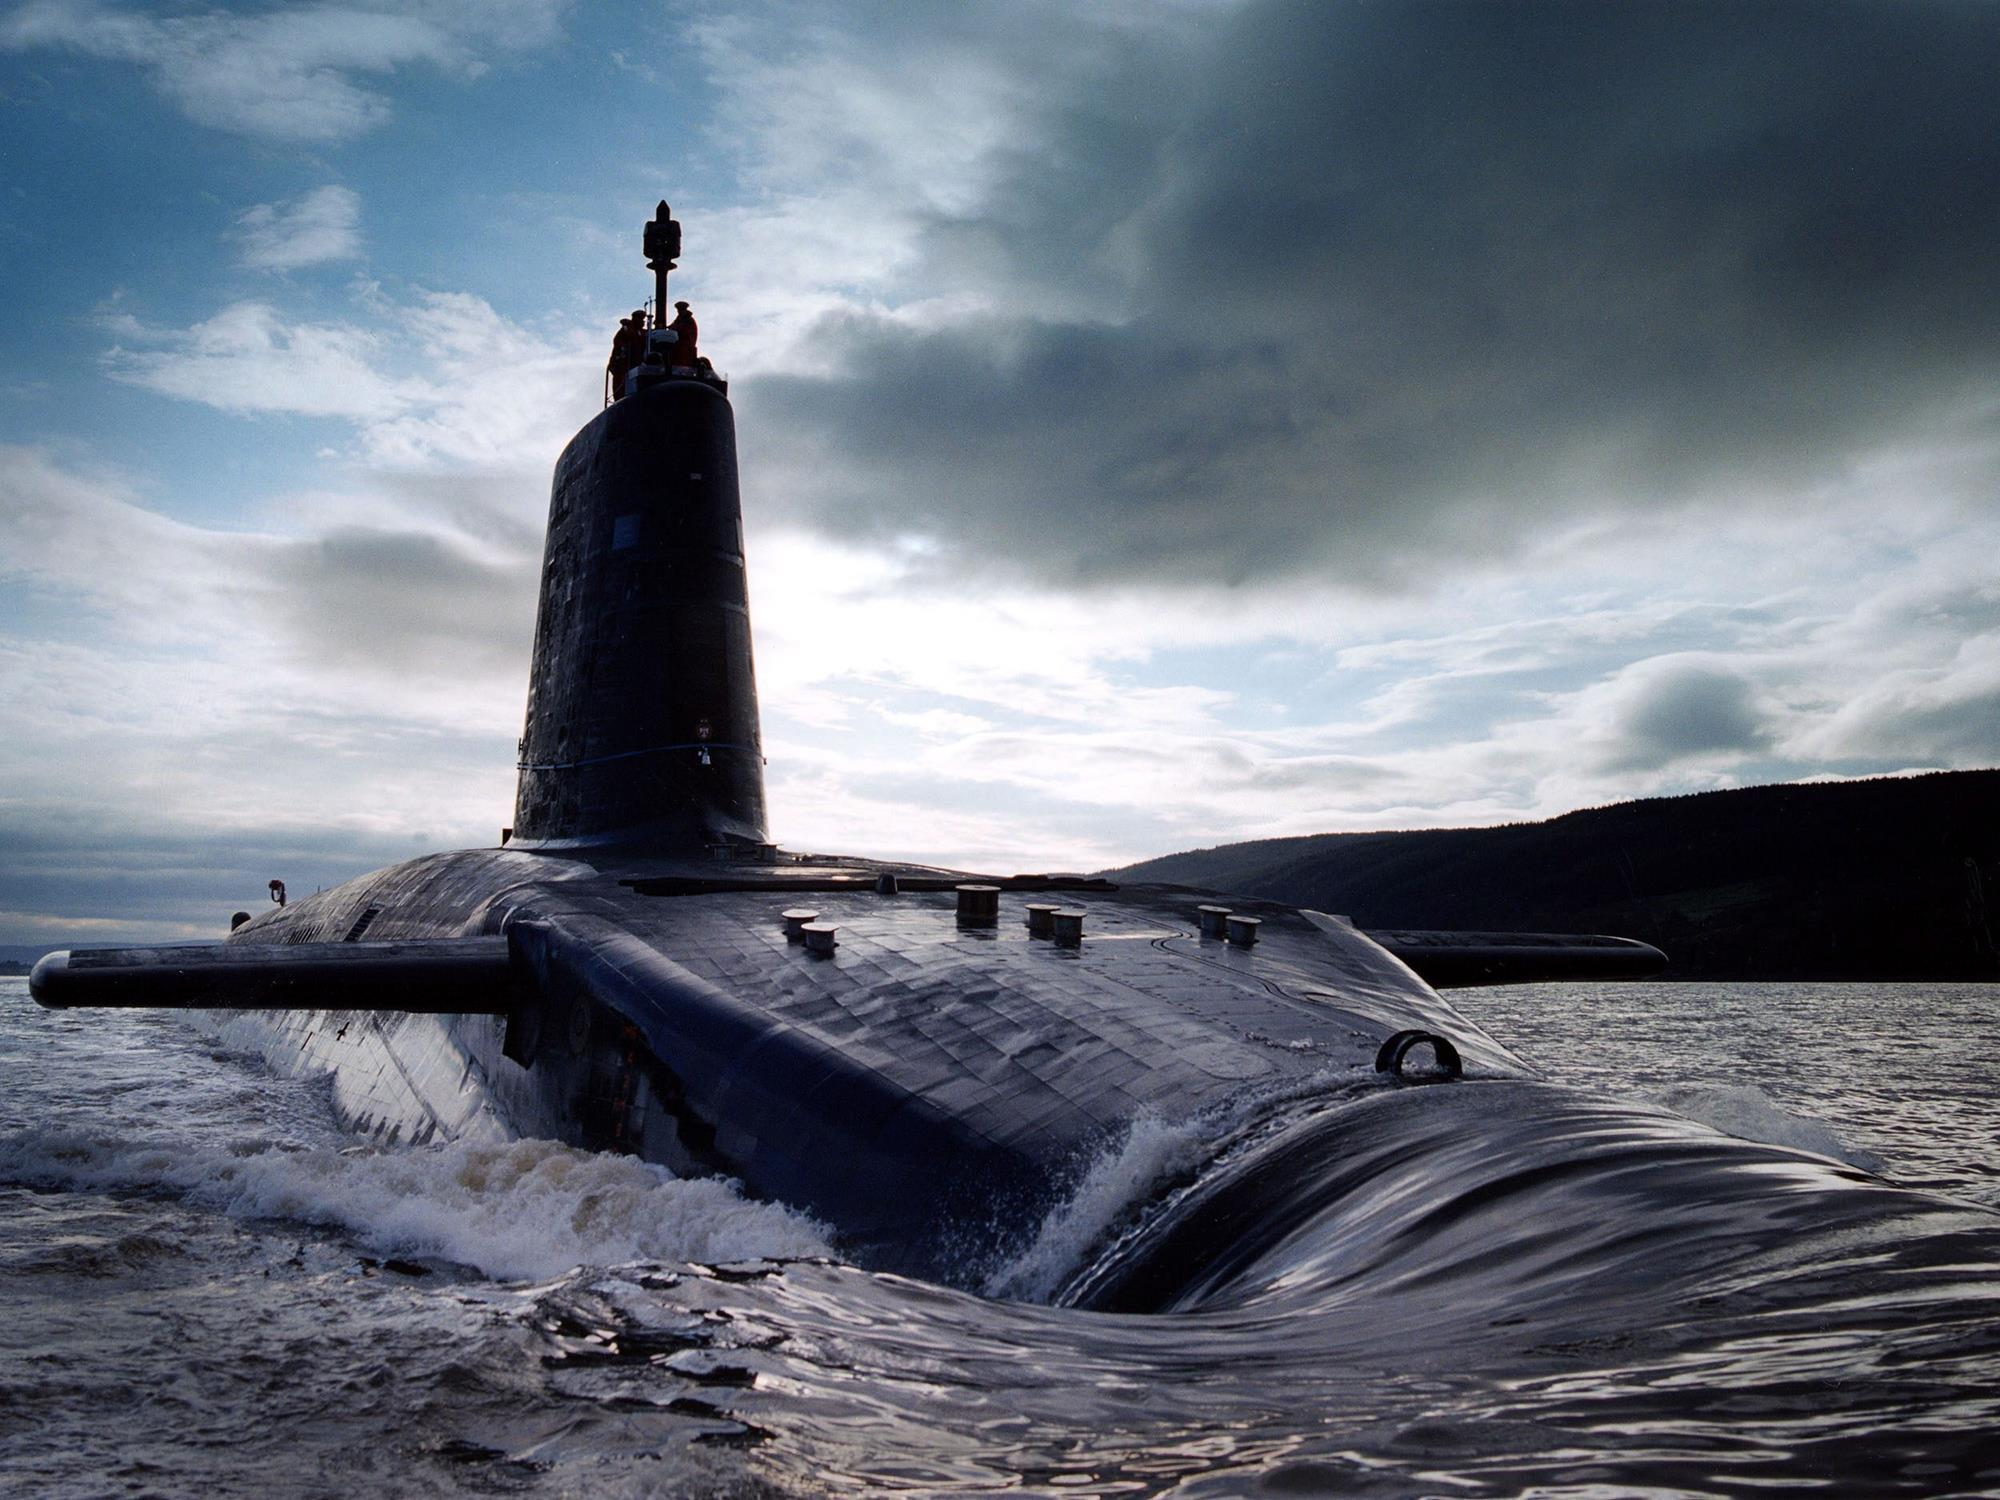Submarine: (37, 177, 2000, 1500)
